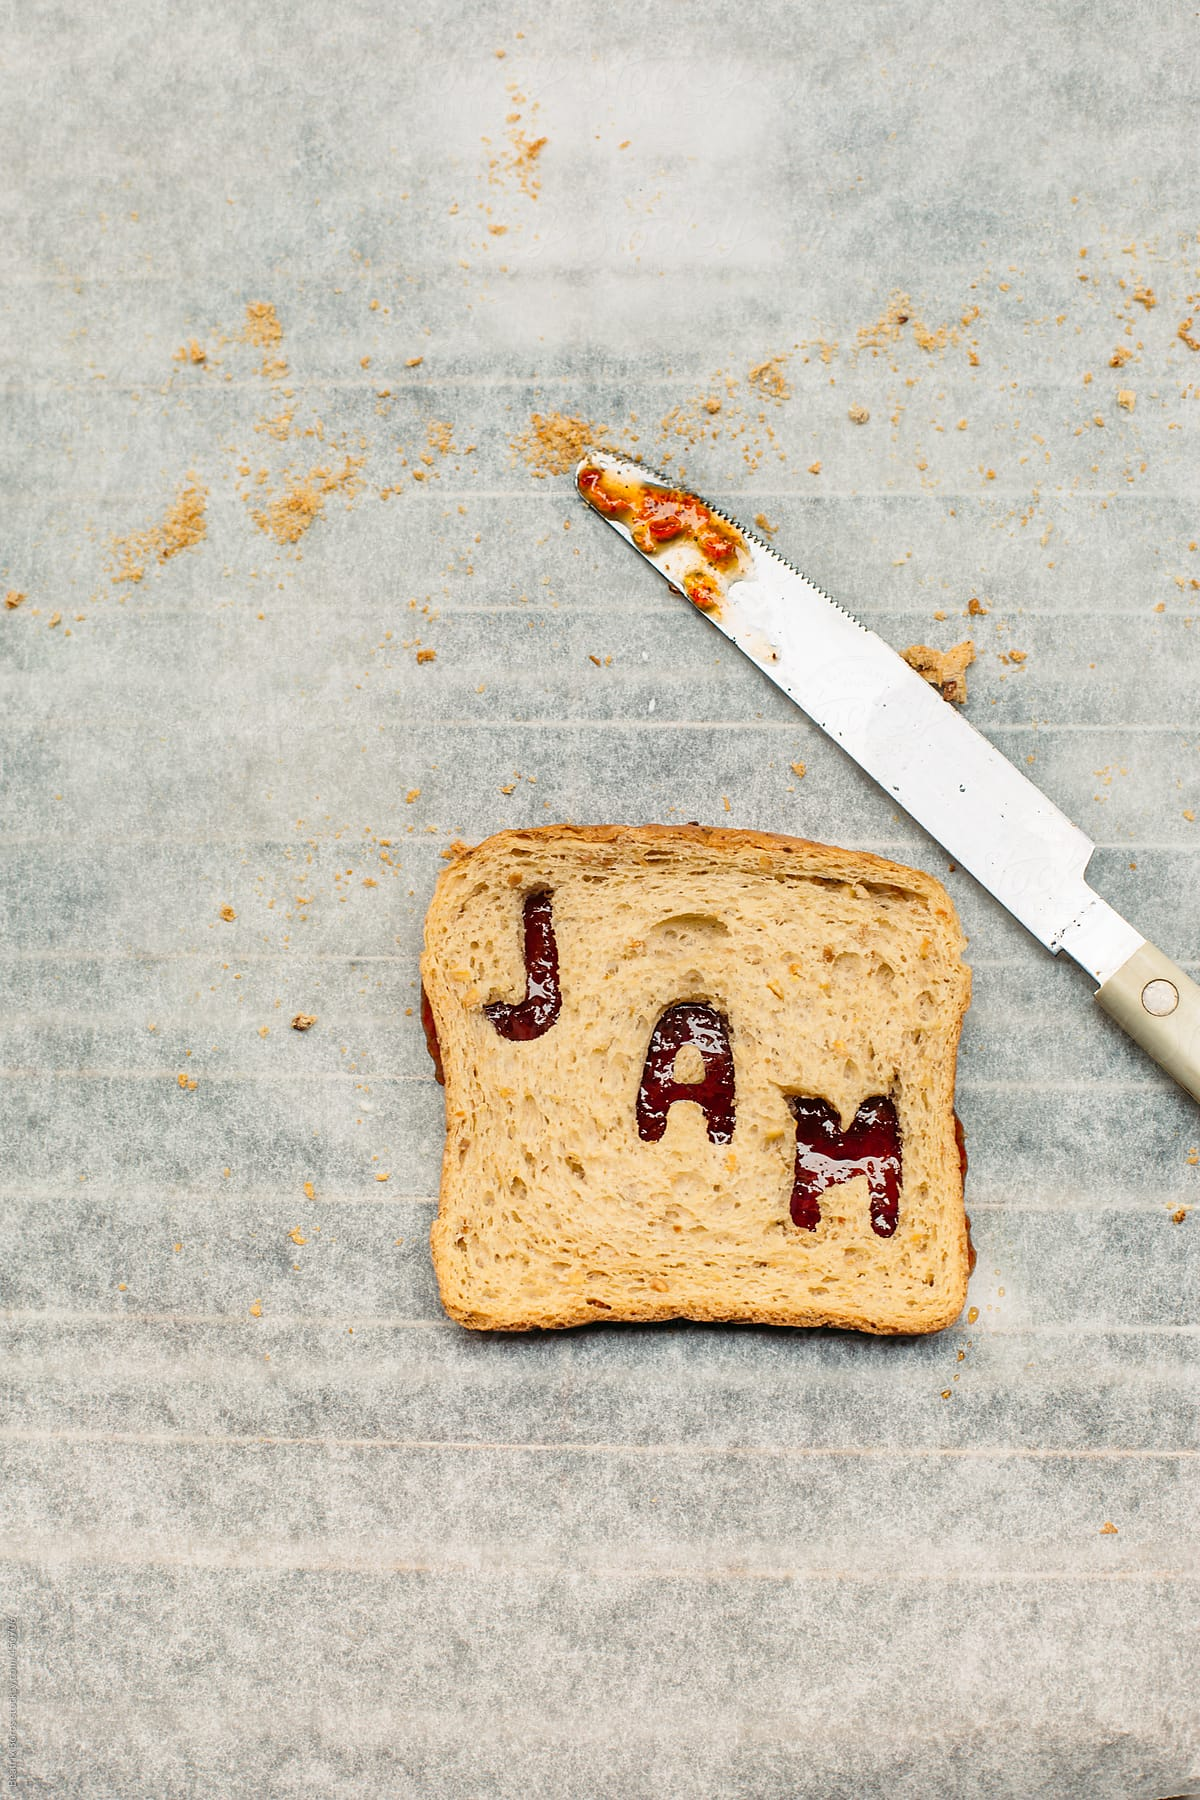slice of bread: (388, 813, 991, 1387)
